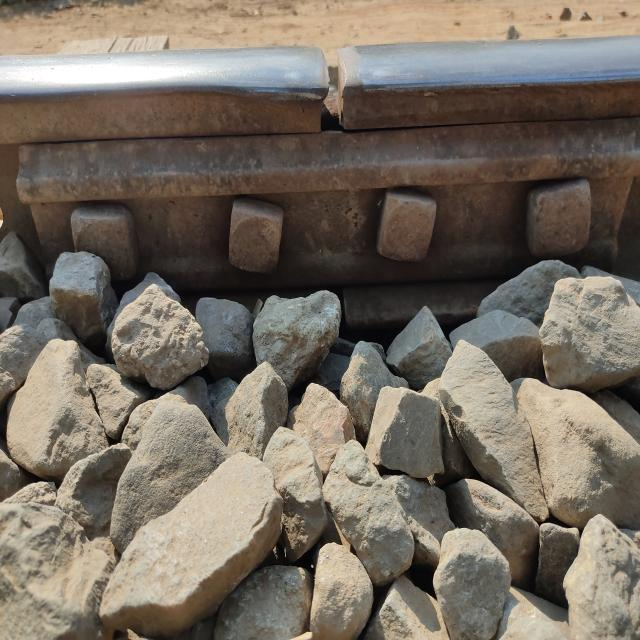Faults: (304, 36, 365, 137)
